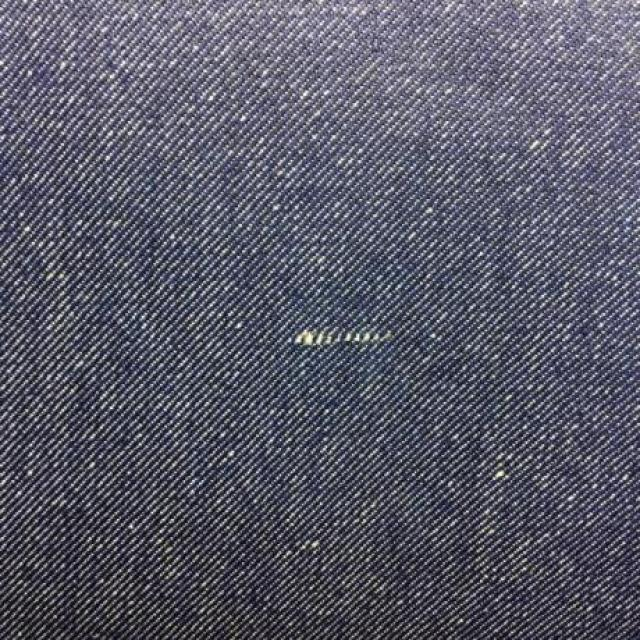stains: (219, 272, 434, 403)
